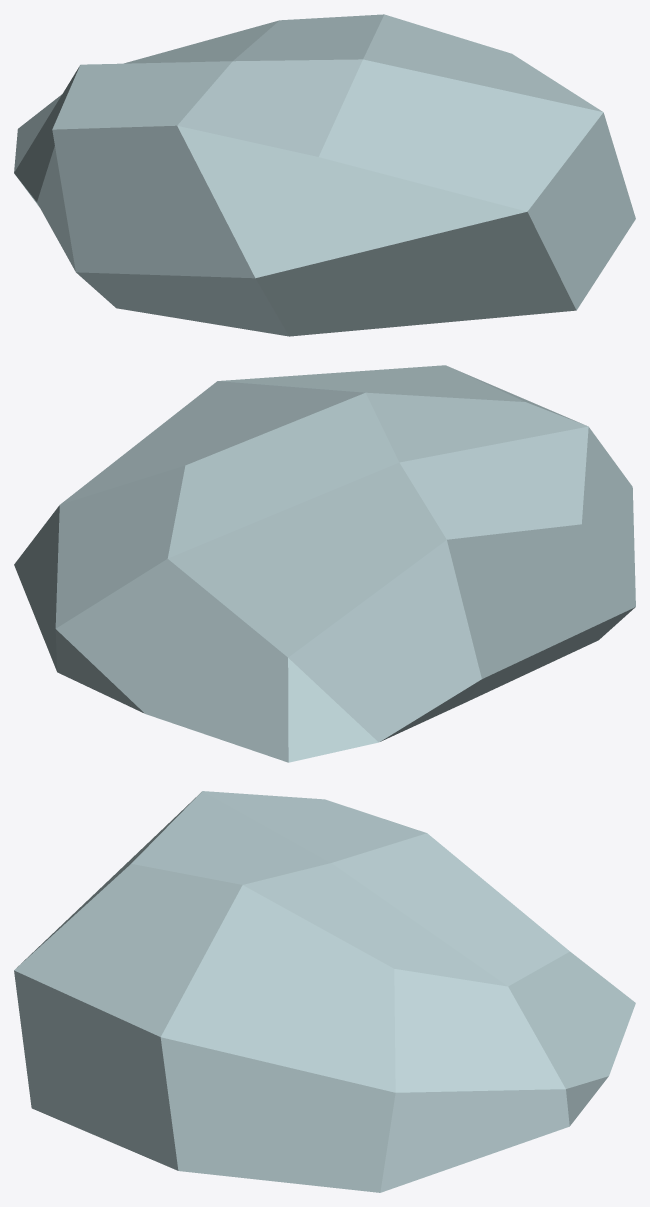
File: Stone_5_Large_Dark.fbx
The picture shows the model from 3 angles, top to bottom: view 1: azimuth 30°, elevation 25°; view 2: azimuth 150°, elevation 25°; view 3: azimuth 270°, elevation 25°; orthographic projection. The views are drawn at different scales.
Visible parts, largest first — view 1: Stone_5_Large_Dark; view 2: Stone_5_Large_Dark; view 3: Stone_5_Large_Dark.
Boxes of the visible parts, bbox=[...] form: Stone_5_Large_Dark: bbox=[14, 14, 635, 336]; Stone_5_Large_Dark: bbox=[14, 365, 635, 762]; Stone_5_Large_Dark: bbox=[14, 791, 635, 1192].
Bounding box in the file's own units: 0.6227 × 0.2011 × 0.6356.
